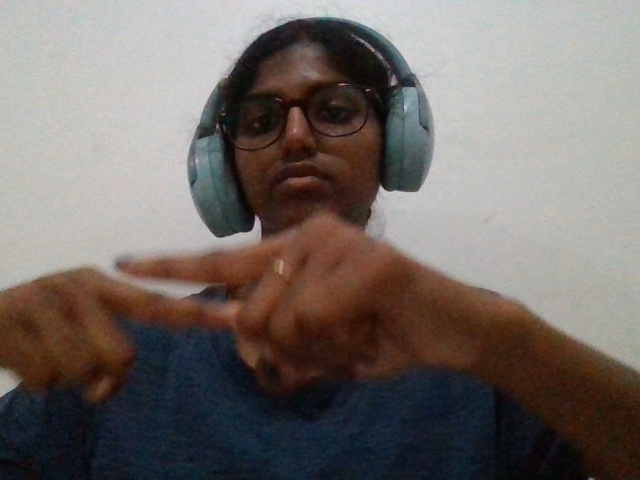Sign: (3, 204, 548, 419)
